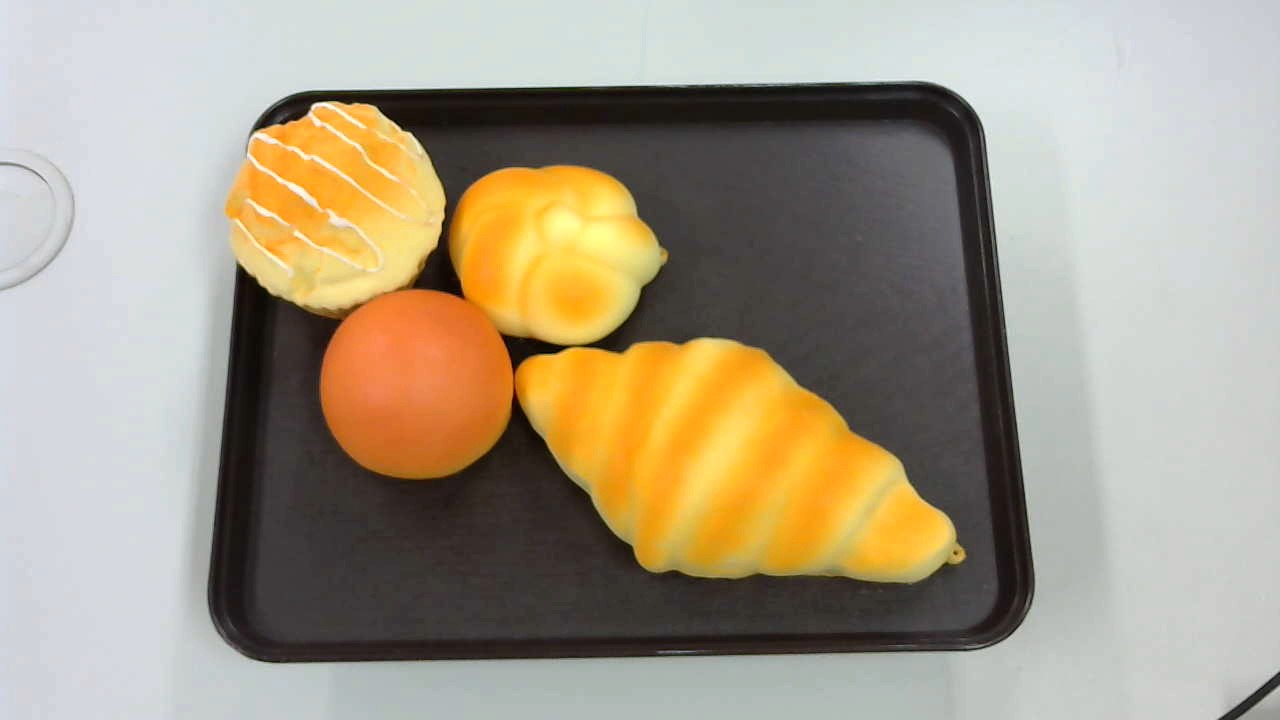bun: (319, 289, 514, 480)
croissant: (515, 336, 967, 584)
cupcake: (225, 102, 449, 322)
twist bread: (447, 165, 668, 345)
